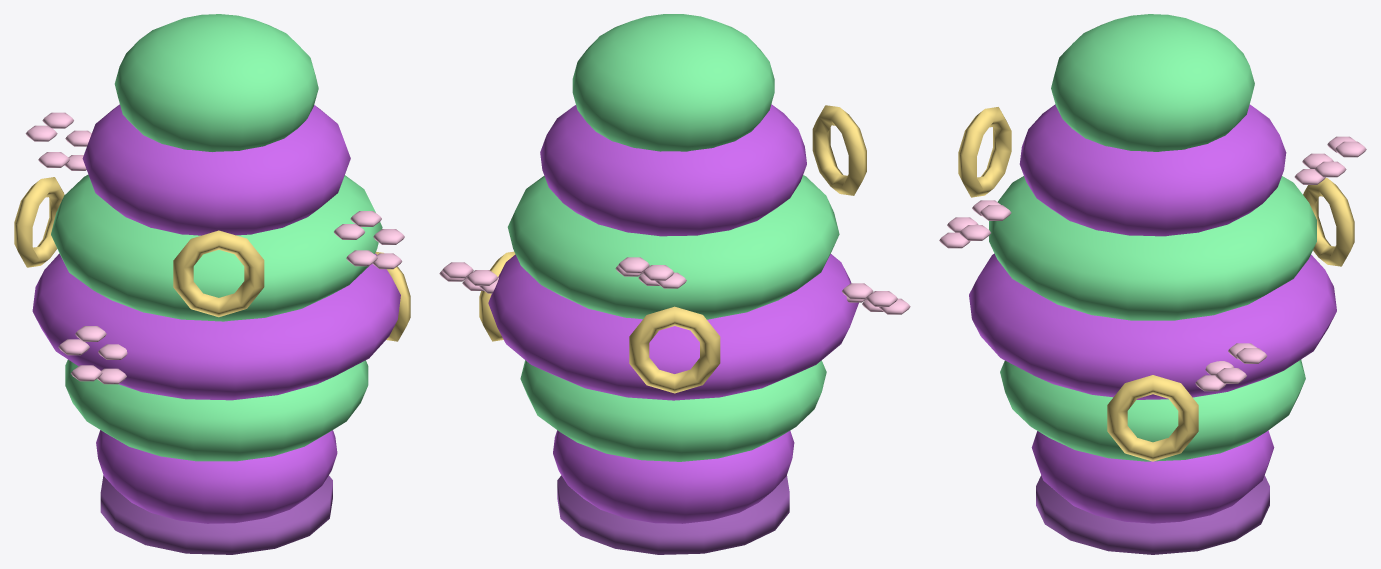
Rendered from egg_alien_00.glb.
3 renders of one model, left to right at view 1: azimuth 30°, elevation 25°; view 2: azimuth 150°, elevation 25°; view 3: azimuth 270°, elevation 25°, orthographic.
Visible parts, largest first — view 1: ball; view 2: ball; view 3: ball.
Boxes of the visible parts, <box> form: ball: <box>14,14,410,554</box>; ball: <box>439,14,910,554</box>; ball: <box>939,14,1366,554</box>.
Bounding box in the file's own units: 0.8208 × 0.99 × 0.8038.
